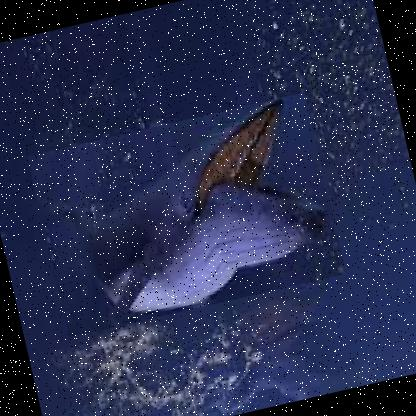blue_whale: (27, 92, 348, 338)
